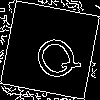Q: (25, 25, 84, 87)
